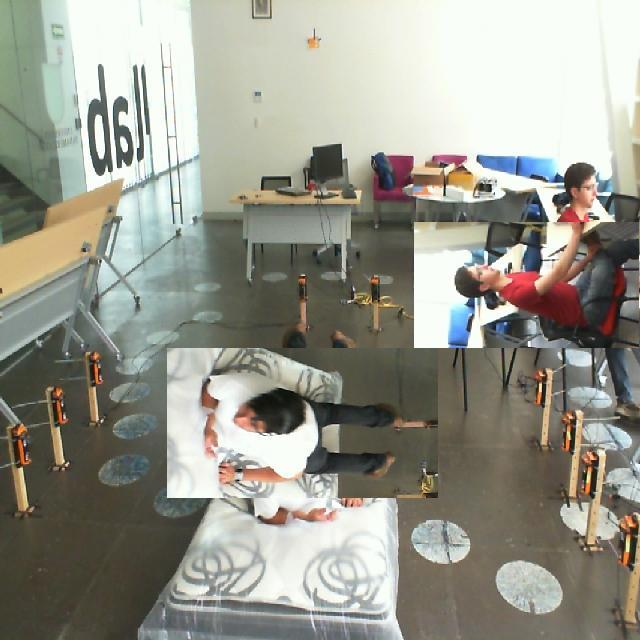Fall: (145, 332, 438, 486)
NotFall: (421, 173, 602, 356)
